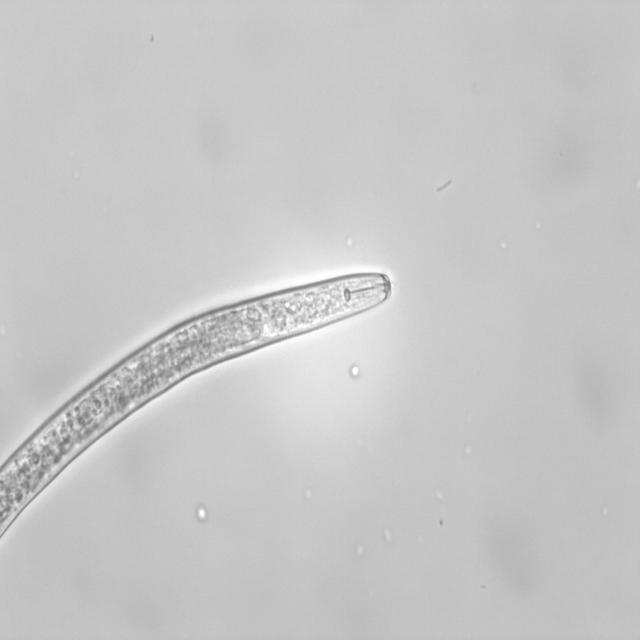Pratylenchus: (0, 260, 404, 552)
